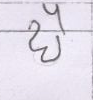ai_matra: (42, 3, 69, 29)
